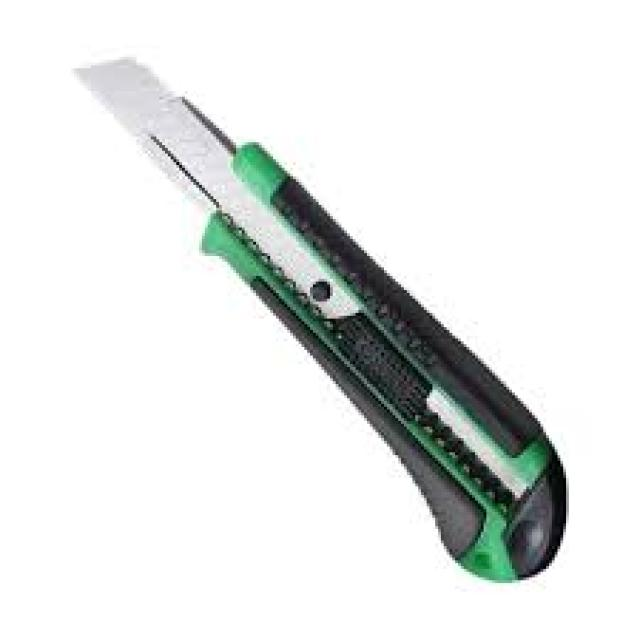Knife: (82, 60, 566, 580)
